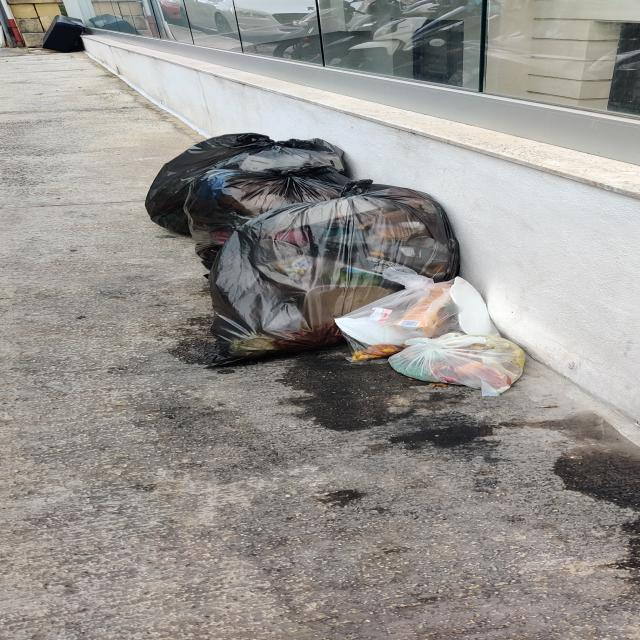Mixed Waste -Black Bags-: (142, 130, 463, 371)
Organic Waste -White Bags-: (325, 273, 530, 394)
